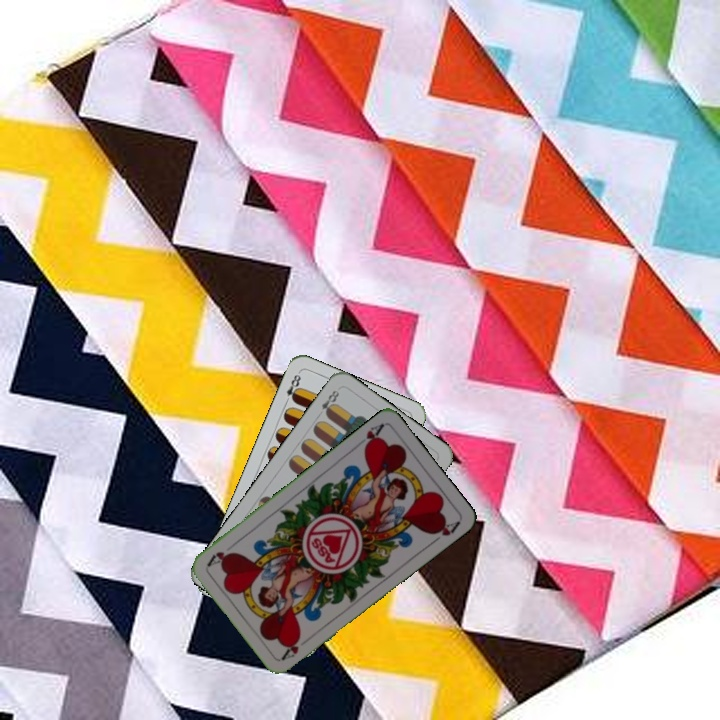E8: (313, 386, 342, 420), (281, 369, 303, 407)
HA: (352, 419, 386, 453), (278, 633, 303, 663)
